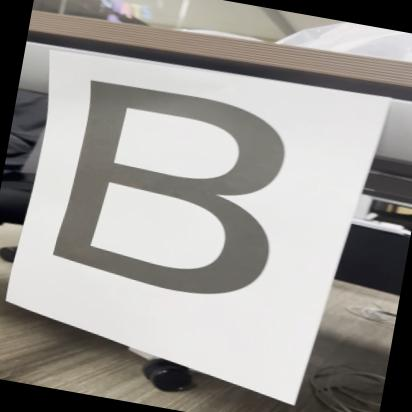seat: (39, 71, 292, 317)
